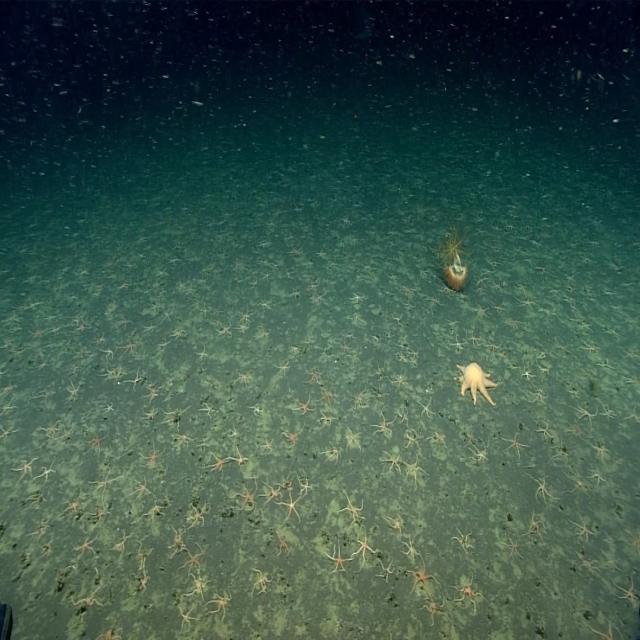brittle-stars: (14, 485, 49, 513), (410, 561, 437, 596), (455, 578, 480, 612), (352, 532, 376, 567), (28, 509, 52, 544), (34, 531, 60, 563), (73, 583, 104, 609), (528, 475, 553, 507), (616, 576, 640, 609), (180, 546, 203, 580), (91, 470, 118, 498), (586, 622, 626, 640), (326, 543, 349, 574), (544, 337, 575, 360), (565, 307, 591, 333), (341, 495, 364, 524), (209, 590, 231, 620), (235, 481, 257, 511), (424, 594, 445, 624), (566, 470, 588, 498), (73, 534, 97, 559), (281, 492, 301, 522), (572, 515, 594, 542), (406, 455, 426, 484), (140, 444, 163, 469), (505, 433, 527, 459), (89, 322, 111, 348), (86, 432, 110, 455), (29, 350, 52, 374), (453, 526, 474, 552), (253, 567, 273, 594), (15, 456, 38, 479), (65, 489, 84, 516), (624, 526, 640, 558), (374, 413, 396, 436), (189, 502, 208, 528), (538, 299, 560, 321), (528, 512, 544, 542), (285, 238, 305, 262), (37, 459, 57, 482), (163, 409, 186, 429), (395, 294, 418, 314), (482, 253, 505, 273), (170, 526, 187, 553), (62, 361, 86, 380), (344, 425, 362, 450), (179, 606, 196, 632), (92, 623, 118, 640), (575, 404, 596, 425), (322, 443, 342, 465), (91, 504, 111, 526), (274, 470, 294, 492), (382, 451, 401, 474), (133, 477, 152, 500), (145, 498, 164, 521), (530, 338, 549, 361), (504, 533, 522, 557), (189, 573, 207, 597), (293, 394, 313, 415), (262, 482, 282, 503), (40, 420, 61, 440), (623, 404, 640, 428), (285, 334, 301, 359), (590, 466, 608, 488), (0, 421, 18, 443), (592, 356, 618, 371), (209, 453, 228, 473), (580, 556, 600, 575), (470, 442, 488, 463), (282, 426, 300, 447), (276, 531, 291, 556), (376, 560, 393, 582), (318, 384, 335, 406), (534, 421, 552, 441), (137, 545, 152, 569), (311, 288, 331, 306), (555, 442, 572, 463), (66, 379, 82, 401), (232, 448, 250, 467), (532, 384, 551, 402), (36, 385, 55, 403), (563, 383, 581, 402), (568, 420, 585, 440), (115, 536, 132, 556), (404, 537, 420, 558), (298, 477, 314, 498), (305, 273, 321, 294), (488, 276, 504, 297), (236, 371, 254, 389), (200, 402, 218, 420), (122, 340, 140, 358), (390, 372, 408, 390), (361, 261, 379, 279), (0, 380, 17, 399), (383, 268, 402, 285), (418, 399, 434, 419), (278, 264, 294, 284), (174, 434, 192, 451), (599, 404, 615, 423), (288, 284, 302, 305), (144, 384, 160, 402), (138, 568, 150, 592), (593, 443, 609, 461), (353, 386, 366, 408), (388, 515, 403, 534), (430, 430, 446, 447), (489, 300, 506, 316), (73, 344, 90, 360), (466, 331, 481, 349), (129, 372, 144, 390), (622, 348, 640, 363), (0, 400, 15, 418), (307, 369, 322, 386), (625, 374, 640, 391), (162, 306, 176, 324), (471, 272, 489, 286), (396, 407, 409, 426), (240, 307, 255, 323), (475, 304, 490, 320), (426, 291, 441, 307), (319, 412, 334, 428), (31, 324, 46, 340), (504, 316, 521, 330), (583, 342, 600, 356), (372, 363, 386, 380), (471, 285, 490, 297), (217, 322, 232, 337), (73, 319, 88, 334), (276, 360, 290, 376), (486, 340, 502, 354), (534, 264, 550, 278), (258, 325, 272, 341), (606, 327, 622, 341), (522, 363, 535, 380), (518, 295, 535, 308), (143, 408, 158, 422), (452, 336, 465, 352), (237, 320, 251, 334), (116, 315, 130, 329), (260, 299, 274, 313), (102, 346, 115, 361), (350, 291, 365, 304), (400, 283, 415, 296), (117, 279, 132, 292), (262, 439, 275, 454), (101, 364, 114, 379), (464, 429, 476, 445), (342, 340, 354, 356), (178, 277, 190, 293), (198, 343, 208, 362), (172, 327, 186, 340), (143, 320, 157, 333), (157, 266, 170, 280), (249, 404, 262, 418), (536, 361, 550, 374), (250, 274, 260, 292), (407, 431, 419, 446), (352, 311, 364, 326), (516, 281, 529, 294), (170, 252, 182, 266), (327, 258, 339, 272), (157, 338, 168, 353), (315, 248, 328, 260), (391, 314, 404, 326), (77, 266, 89, 279), (262, 270, 274, 282), (212, 304, 222, 318), (410, 347, 421, 359), (104, 401, 115, 413), (200, 306, 211, 318), (395, 341, 406, 353), (397, 351, 407, 364), (230, 426, 240, 439), (260, 258, 270, 269), (410, 357, 420, 368), (0, 362, 6, 379), (498, 349, 507, 360)
